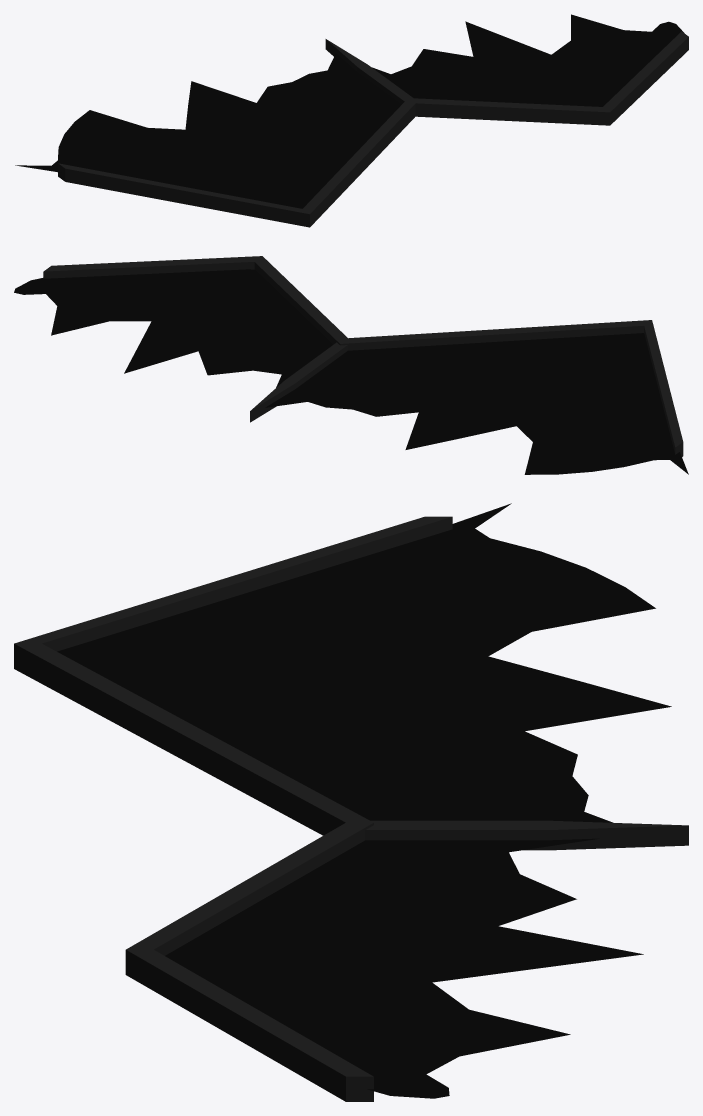
Rendered from mur-alaizq.obj.
The picture shows the model from 3 angles, top to bottom: view 1: azimuth 30°, elevation 25°; view 2: azimuth 150°, elevation 25°; view 3: azimuth 270°, elevation 25°; orthographic projection. The views are drawn at different scales.
Visible parts, largest first — view 1: ala1; view 2: ala1; view 3: ala1.
Part boxes in pixels (<box>): ala1: <box>15,14,688,227</box>; ala1: <box>14,256,688,474</box>; ala1: <box>14,503,688,1101</box>.
Size of the model in its own units: 10.08 by 0.2 by 4.83.
4 materials, 4 textured.
